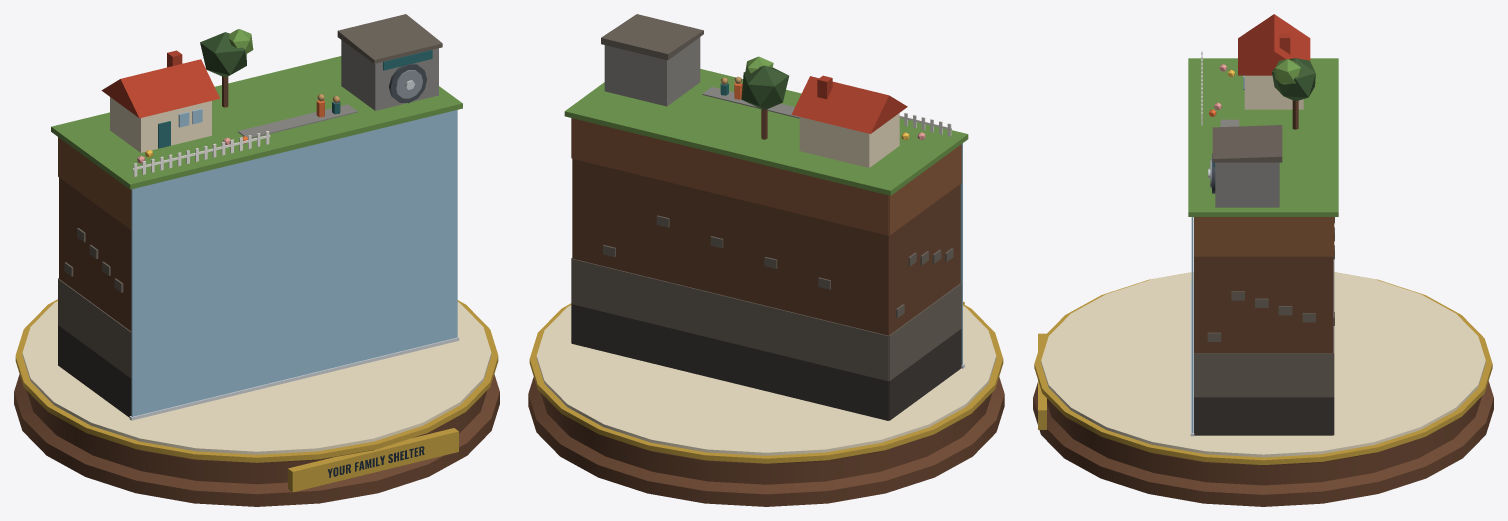
The model's file is Lobby_BunkerCutaway.fbx.
3 views of the same model, side by side, from view 1: azimuth 30°, elevation 25°; view 2: azimuth 150°, elevation 25°; view 3: azimuth 270°, elevation 25° (orthographic). The views are drawn at different scales.
Visible parts, largest first — view 1: Decor, DecorGlassSkyblue; view 2: Decor, DecorGlassSkyblue; view 3: Decor, DecorGlassSkyblue.
Boxes of the visible parts, <box> form: Decor: <box>14,14,499,506</box>; DecorGlassSkyblue: <box>131,110,457,416</box>; Decor: <box>528,14,1004,506</box>; DecorGlassSkyblue: <box>960,143,962,364</box>; Decor: <box>1033,14,1493,506</box>; DecorGlassSkyblue: <box>1191,217,1193,432</box>.
Bounding box in the file's own units: 17.2 × 14.35 × 17.2.
